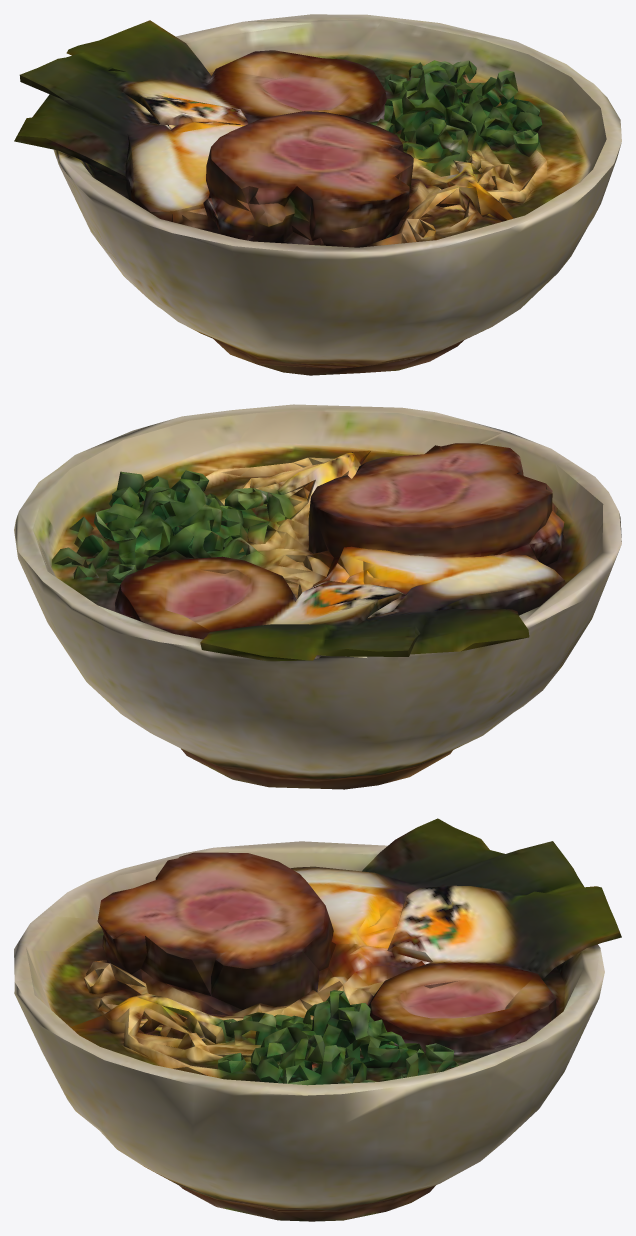
File: item-ramen-chashu.glb
3 renders of one model, top to bottom at view 1: azimuth 30°, elevation 25°; view 2: azimuth 150°, elevation 25°; view 3: azimuth 270°, elevation 25°, orthographic. The views are drawn at different scales.
Visible parts, largest first — view 1: item-ramen-chashu; view 2: item-ramen-chashu; view 3: item-ramen-chashu.
Part boxes in pixels (box(x1,y1,x2,y2)): item-ramen-chashu: box(14, 14, 621, 375); item-ramen-chashu: box(14, 404, 621, 789); item-ramen-chashu: box(14, 818, 621, 1221).
Size of the model in its own units: 0.2271 by 0.0945 by 0.2259.
Materials: 1 (1 with a texture image).
